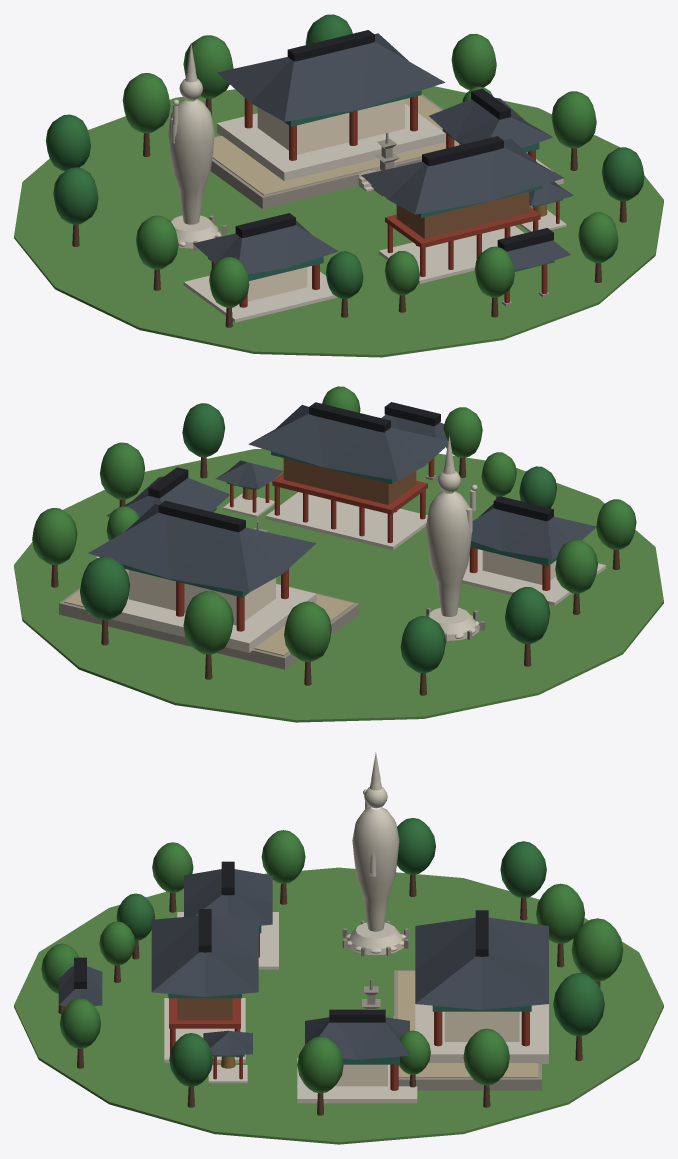
File: bongeunsa.glb
3 renders of one model, top to bottom at view 1: azimuth 30°, elevation 25°; view 2: azimuth 150°, elevation 25°; view 3: azimuth 270°, elevation 25°, orthographic.
Bounding box in the file's own units: 70.4 × 23.12 × 70.4.
